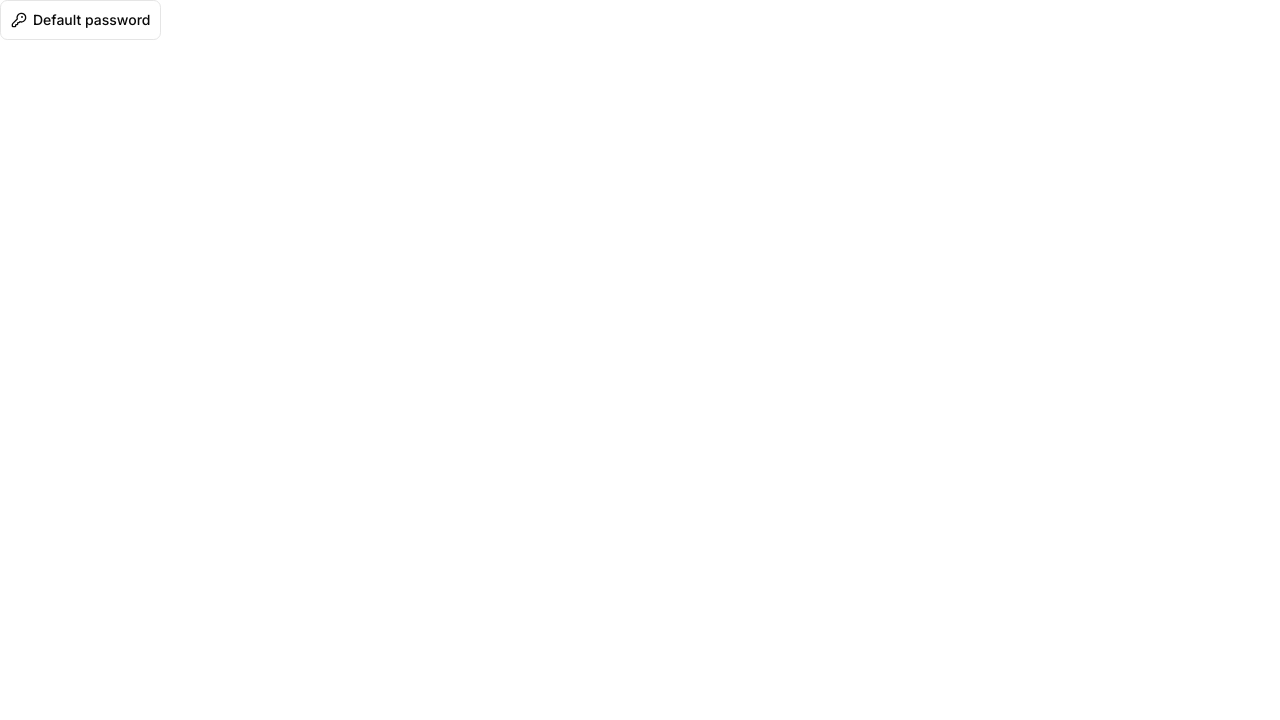
Test case: default staff password › asks before discarding a changed default
The width and height of the screenshot is (1280, 720).
Step 1. Click the button "Default password" → (81, 20), box [0,0,162,40]
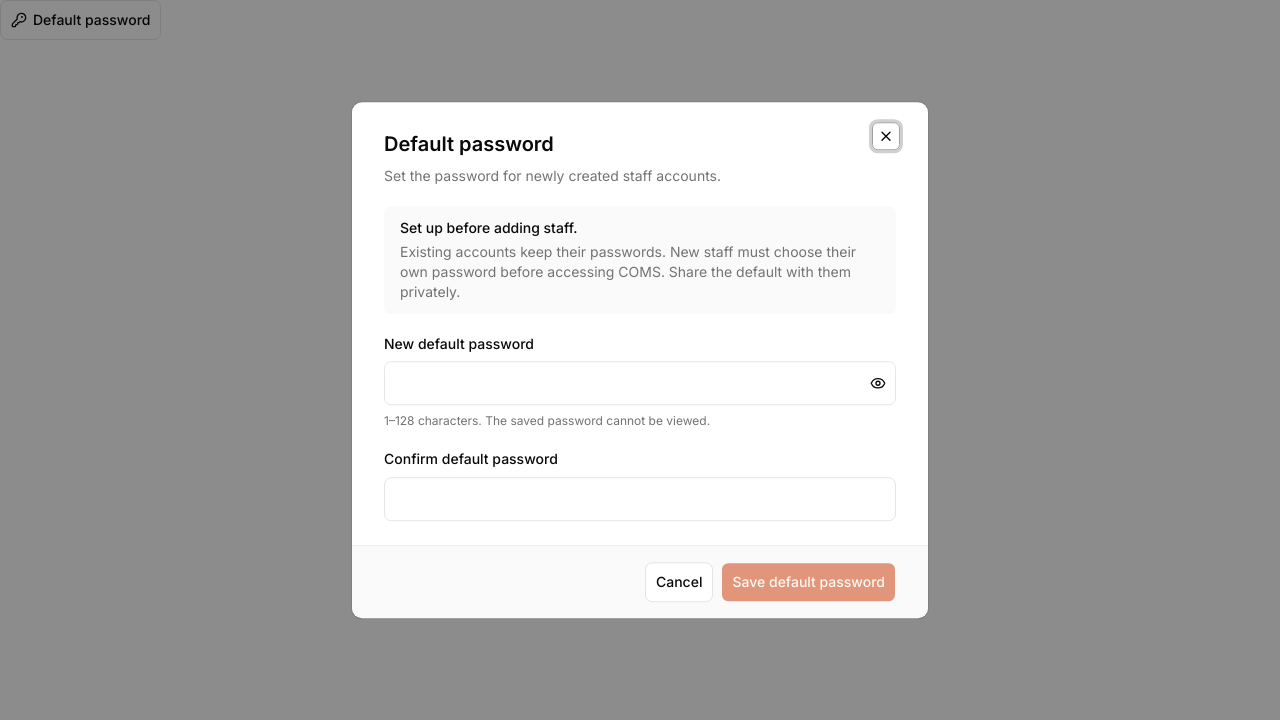
Step 2. Type "Draft default" into the password field labelled "New default password" → (640, 384), box [384,362,896,406]
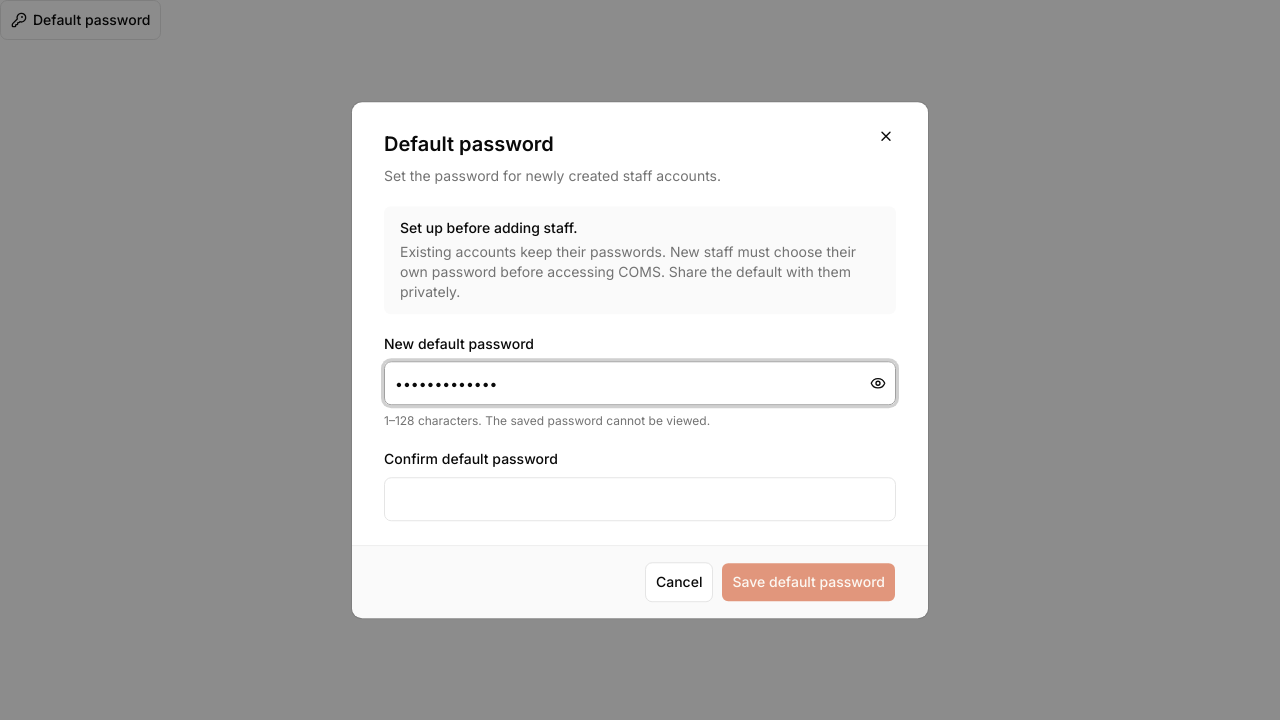
Step 3. Press Escape
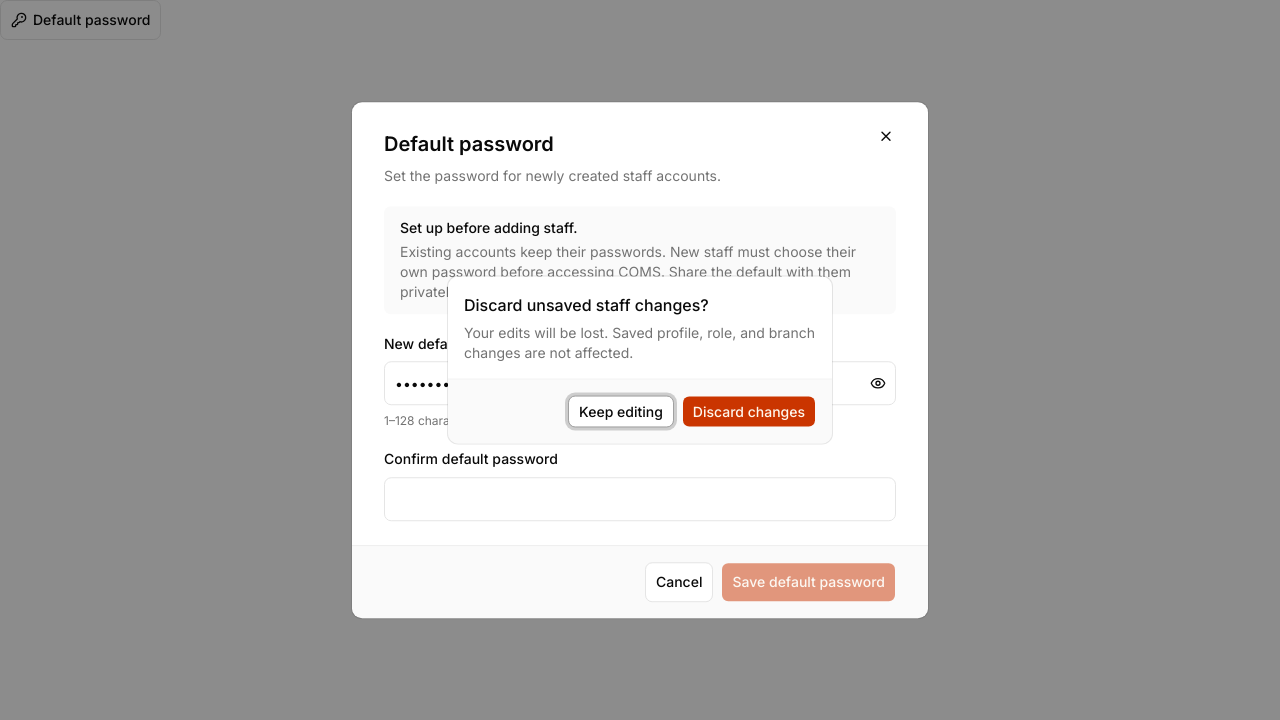
Result: the dialog is shown at [448,276,832,444]
Step 4. Click the button "Discard changes" → (749, 412), box [682,396,816,428]
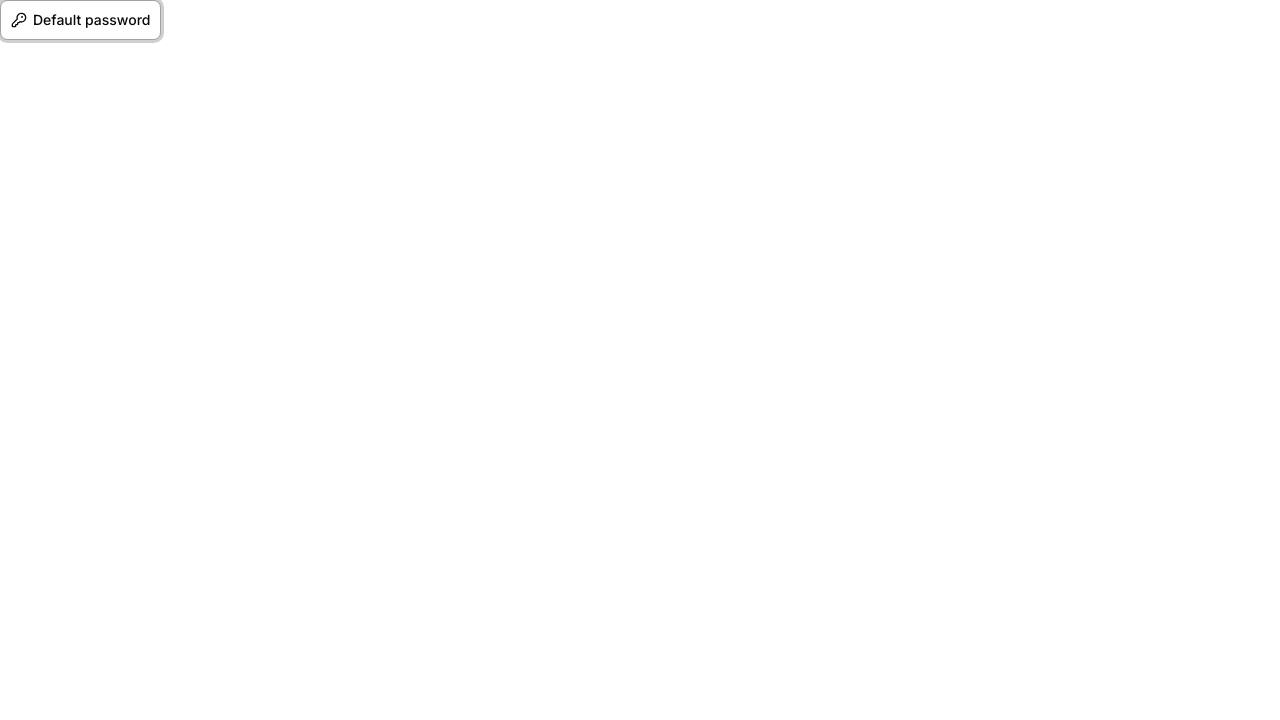
Result: the dialog is gone
